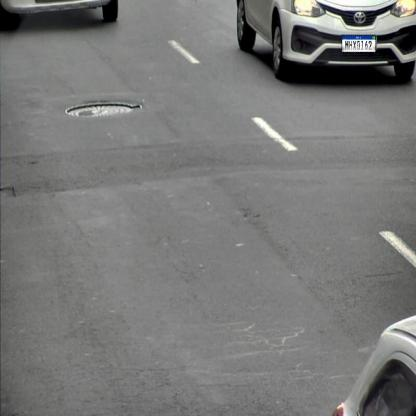PlacaM: (342, 35, 376, 52)
